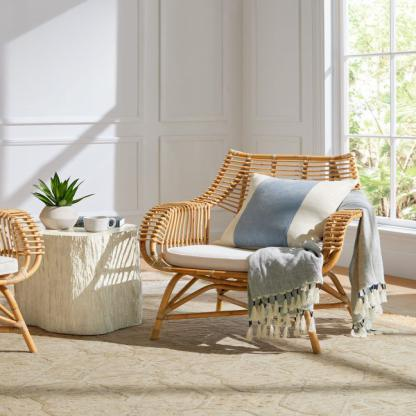chair: (139, 135, 383, 360), (0, 204, 44, 351)
table: (12, 218, 140, 339)
